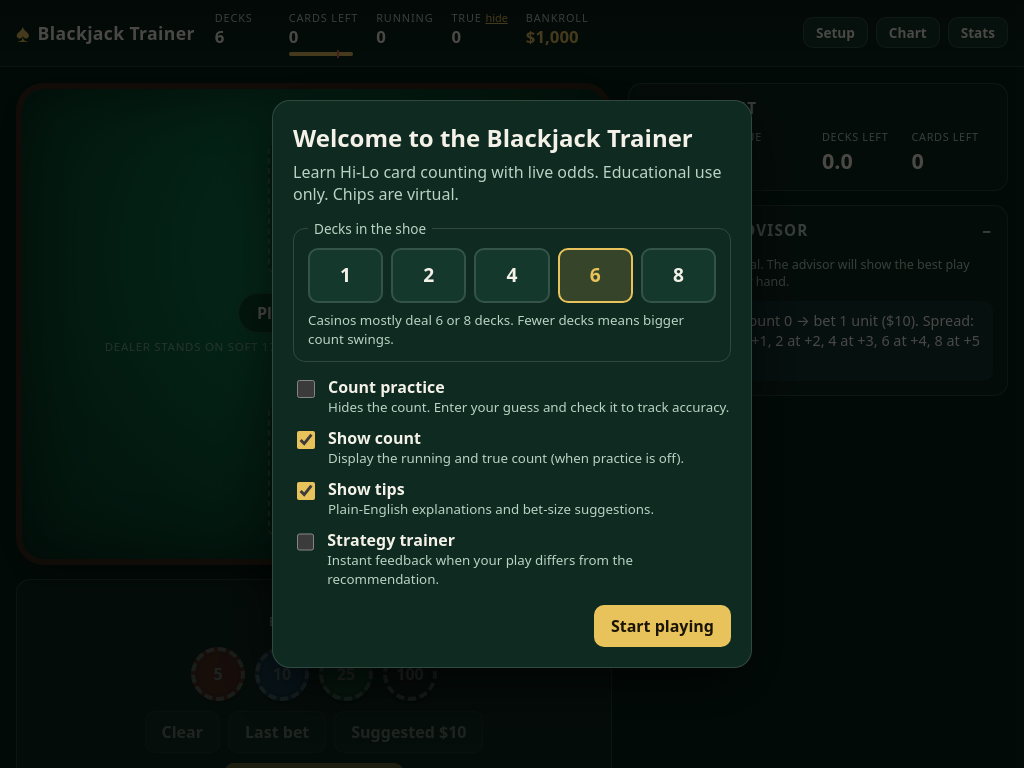
Test: Blackjack Trainer app › shows an error with a retry button when the API fails
Click the button "Start playing".
click(662, 626)  # box 594,604 -> 731,647
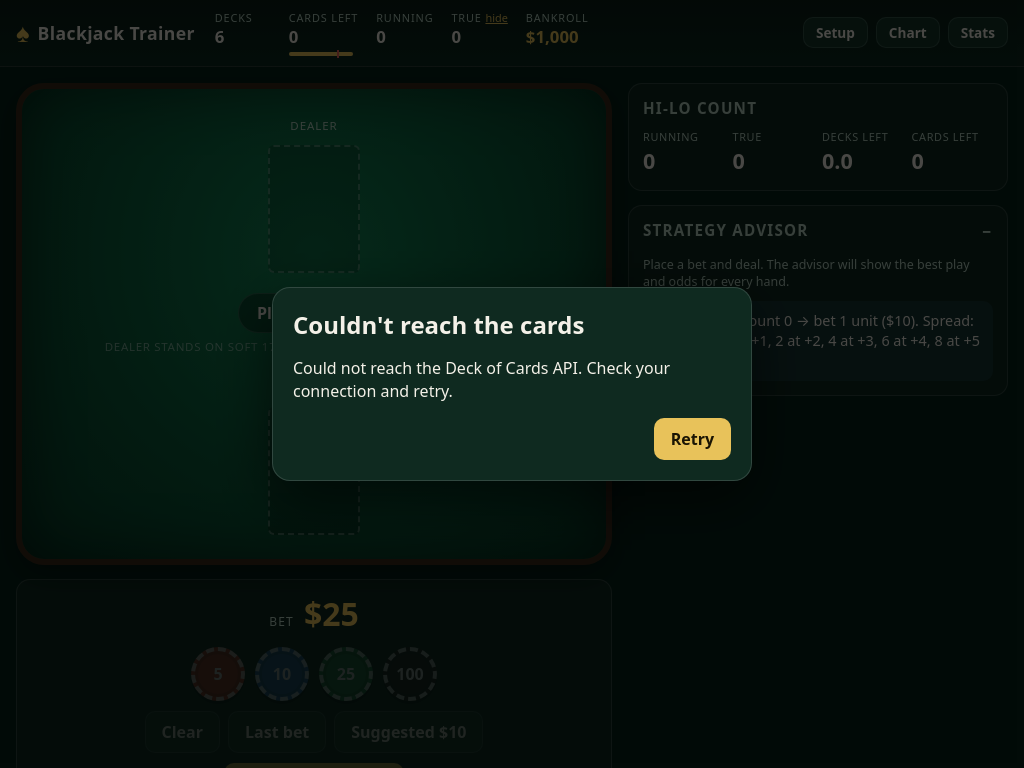
expect the dialog shows "Could not reach": met, box 293,357 -> 670,402
Click the button "Retry".
click(692, 439)  # box 654,418 -> 731,460
(page scrolled)
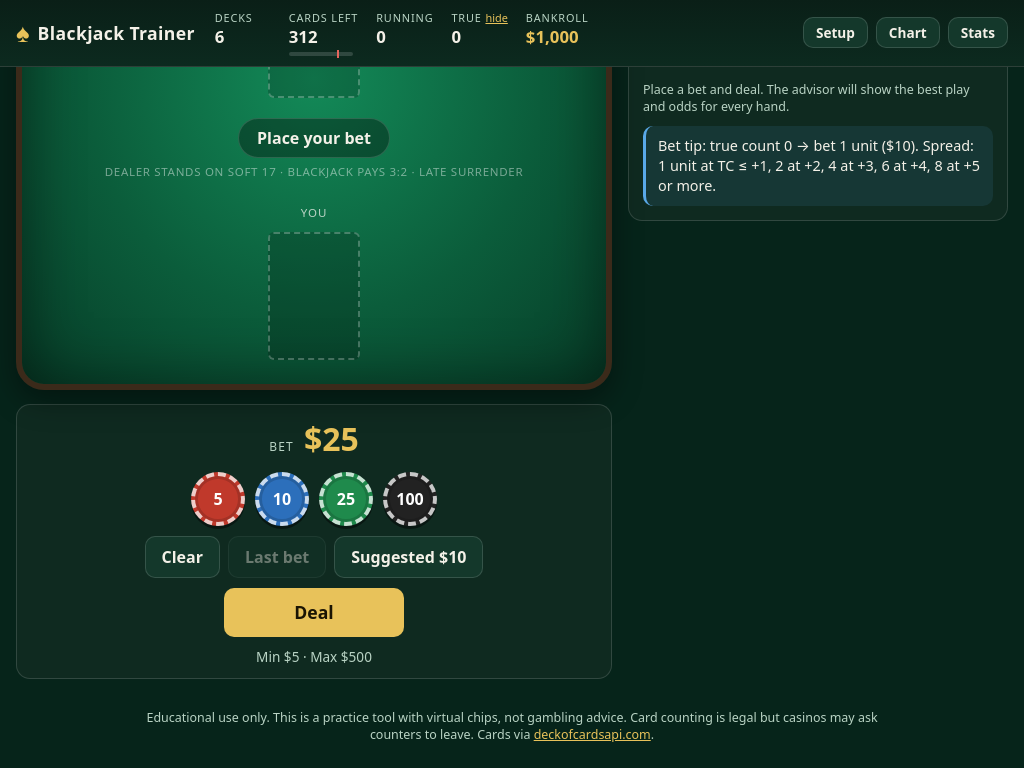
expect the button with aria-label "deal with a bet" is shown: met, box 224,588 -> 404,637
expect the dialog is gone: met
